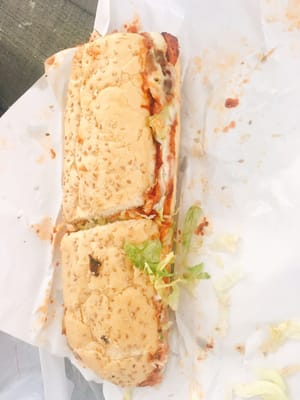soup: (36, 19, 184, 395)
